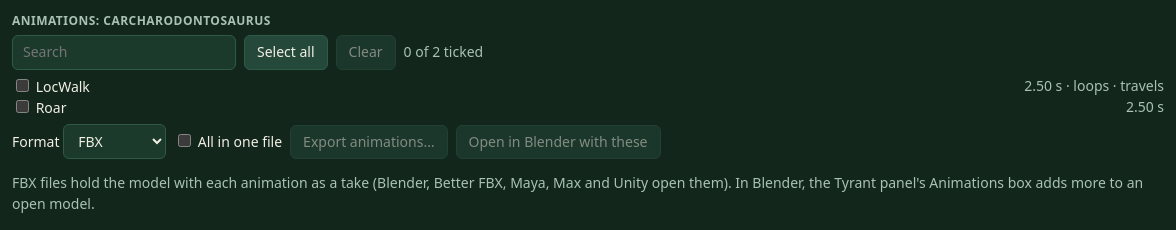
it: Animations › lists the animations with their length and whether they loop or travel, and filters by name
Expected: the text "LocWalk" is shown, [36,77,90,96]
Expected: the text "2.50 s · loops · travels" is shown, [1024,76,1164,97]
Step 1. Type "roa" into the search field named "Search animations" → (124, 53), box [12,35,236,70]
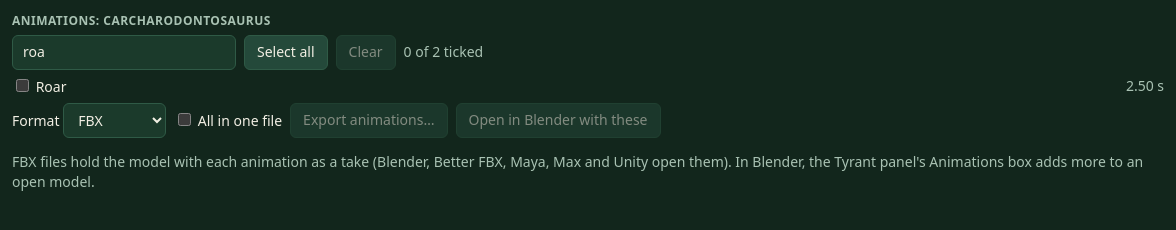
Expected: the text "Roar" is shown, [36,77,66,96]
Result: the text "LocWalk" is gone
